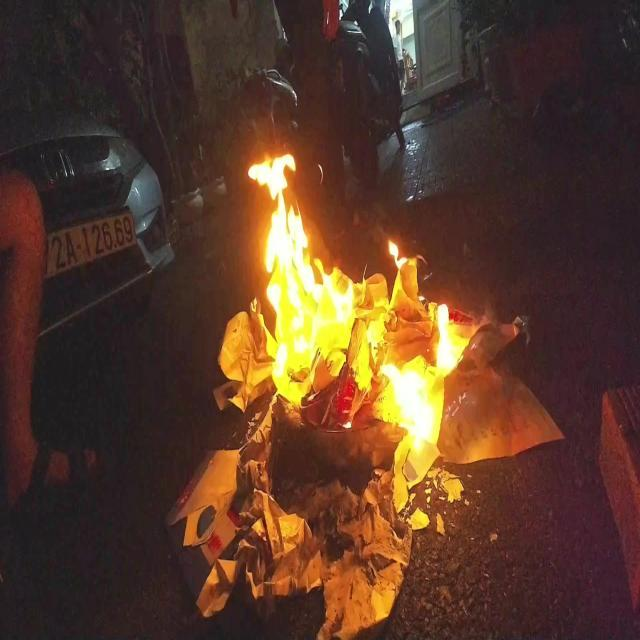Fire: (248, 152, 468, 454)
